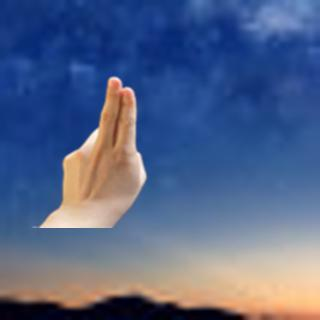DHAVE: (49, 69, 156, 216)
